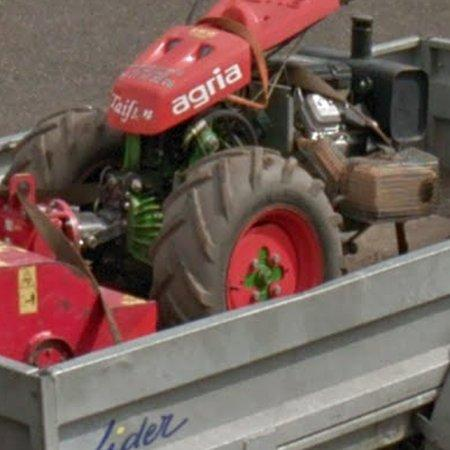tractors: (0, 0, 450, 368)
